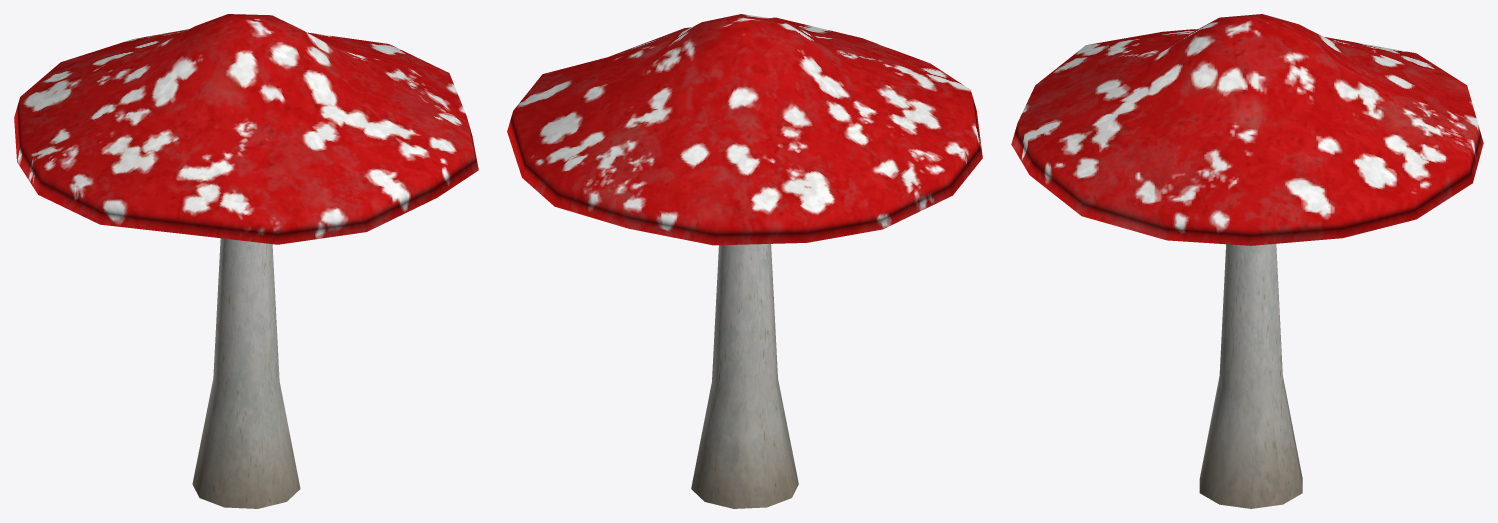
Rendered from Mushroom_01.fbx.
3 views of the same model, side by side, from view 1: azimuth 30°, elevation 25°; view 2: azimuth 150°, elevation 25°; view 3: azimuth 270°, elevation 25° (orthographic).
Visible parts, largest first — view 1: polySurface1; view 2: polySurface1; view 3: polySurface1.
Boxes of the visible parts, x1,y1,x2,y2 form: polySurface1: [14, 14, 478, 508]; polySurface1: [507, 14, 982, 508]; polySurface1: [1011, 14, 1483, 508].
Bounding box in the file's own units: 28.24 × 30.22 × 27.8.
1 material, 1 textured.
